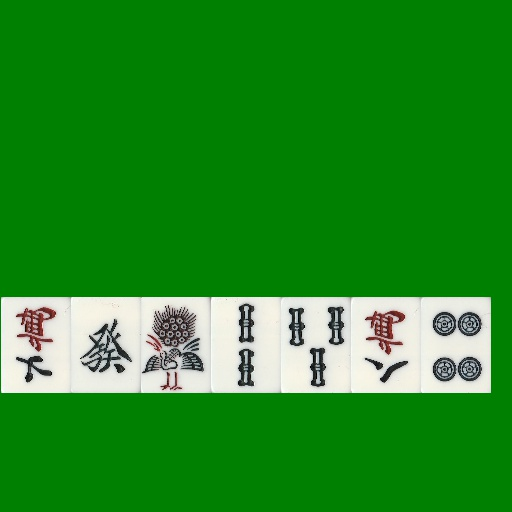1s: (141, 297, 211, 393)
2s: (211, 297, 281, 393)
3s: (281, 297, 351, 393)
4p: (421, 297, 491, 393)
7m: (1, 297, 71, 393)
8m: (351, 297, 421, 393)
hatsu: (71, 297, 141, 393)
